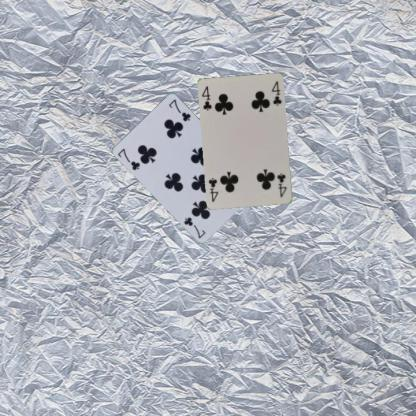4c: (274, 170, 288, 198), (200, 84, 214, 112)
7c: (116, 146, 142, 172)
